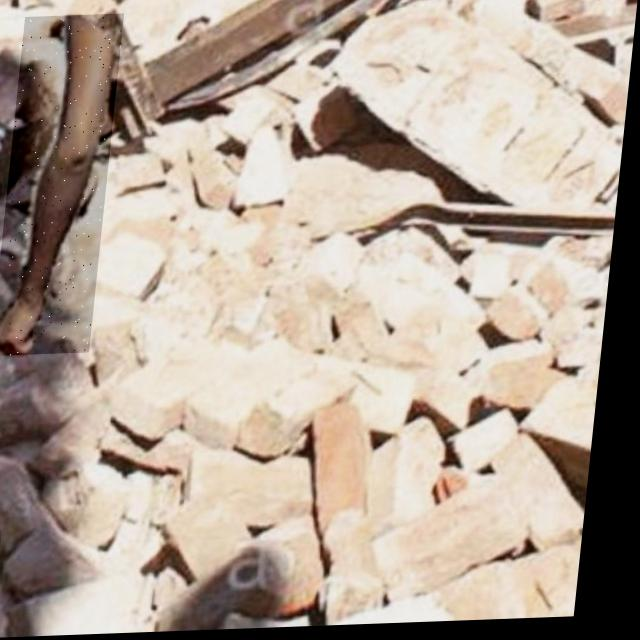Person in Rubble: (0, 14, 125, 356)
